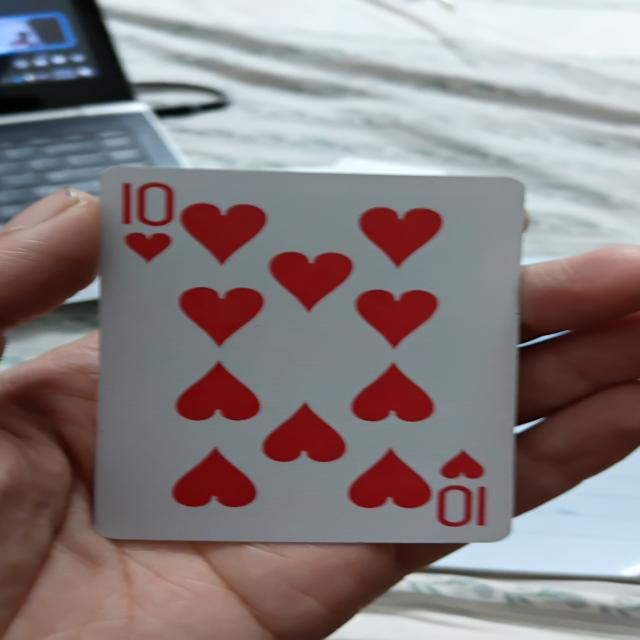10H: (99, 164, 528, 544)
